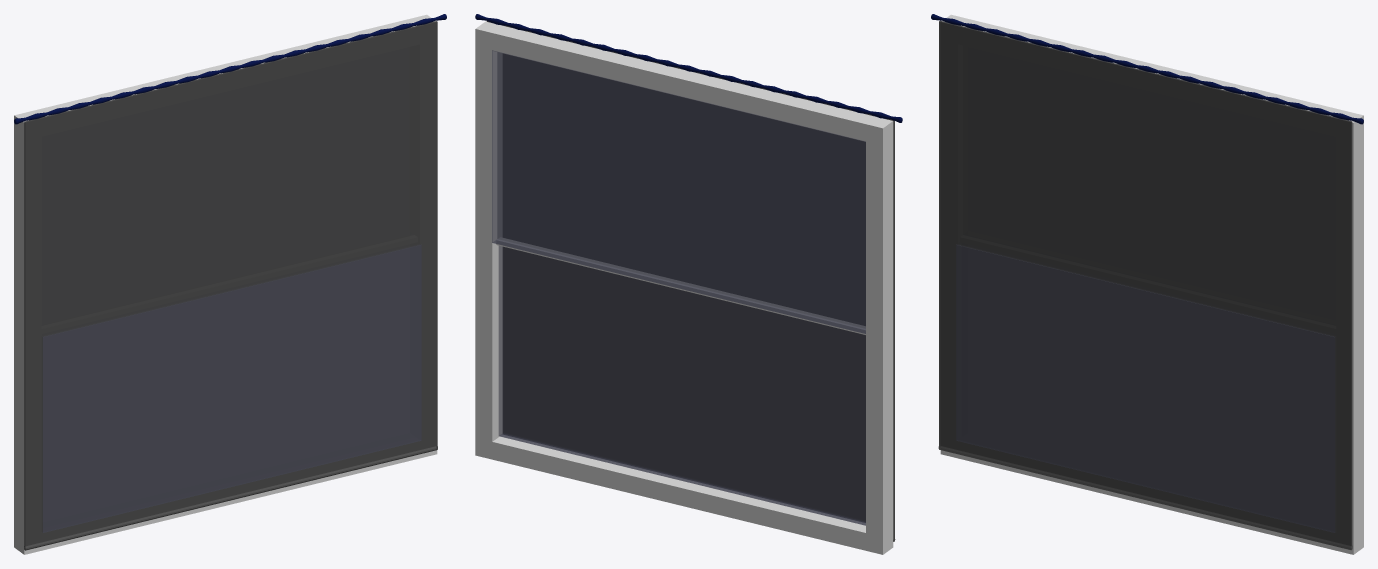
Rendered from Window with Full Curtain.fbx.
3 views of the same model, side by side, from view 1: azimuth 30°, elevation 25°; view 2: azimuth 150°, elevation 25°; view 3: azimuth 330°, elevation 25° (orthographic).
Visible parts, largest first — view 1: Dark_Curtain, Window2, Windo_frame, Curtain_handle; view 2: Dark_Curtain, Window, Window2, Windo_frame, Window1, Curtain_handle; view 3: Dark_Curtain, Window2, Windo_frame, Curtain_handle.
Part boxes in pixels (x1,y1,x2,y2): Dark_Curtain: (24,21,437,550); Window2: (43,245,421,532); Windo_frame: (14,14,437,554); Curtain_handle: (14,14,446,124); Dark_Curtain: (486,21,895,541); Window: (492,50,865,333); Window2: (498,246,865,525); Windo_frame: (475,21,893,554); Window1: (496,237,865,334); Curtain_handle: (475,14,902,122); Dark_Curtain: (938,20,1352,550); Window2: (956,245,1334,532); Windo_frame: (940,14,1363,554); Curtain_handle: (931,14,1363,124).
Bounding box in the file's own units: 8.61 × 8.36 × 0.423.
